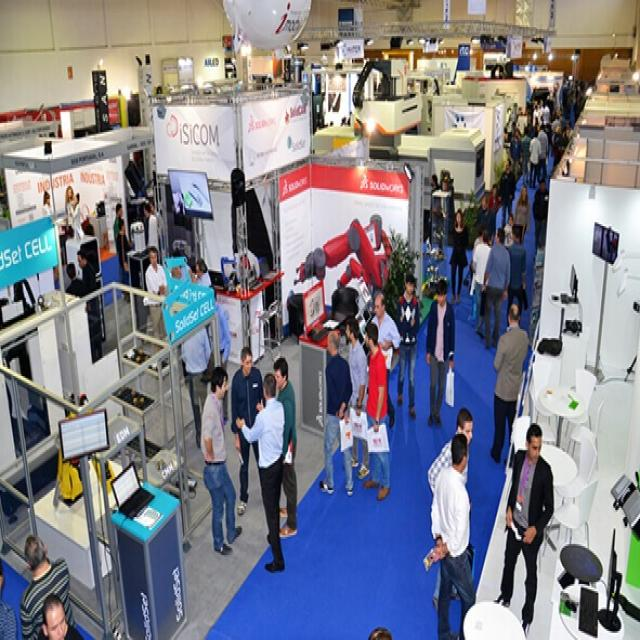body: (39, 177, 232, 452), (443, 72, 598, 338), (492, 421, 556, 640), (234, 371, 287, 575), (426, 403, 476, 613), (428, 430, 476, 640), (198, 361, 244, 557), (0, 550, 89, 638), (487, 298, 531, 468), (317, 327, 355, 501), (230, 344, 268, 517), (18, 531, 76, 640), (361, 320, 392, 503), (341, 314, 373, 481), (423, 275, 456, 432), (272, 354, 299, 540), (371, 291, 404, 430), (396, 266, 422, 421), (482, 224, 511, 351), (144, 244, 170, 349), (505, 222, 527, 331), (447, 206, 470, 309), (310, 105, 356, 141), (532, 175, 550, 253), (364, 622, 393, 638), (430, 172, 442, 193)
